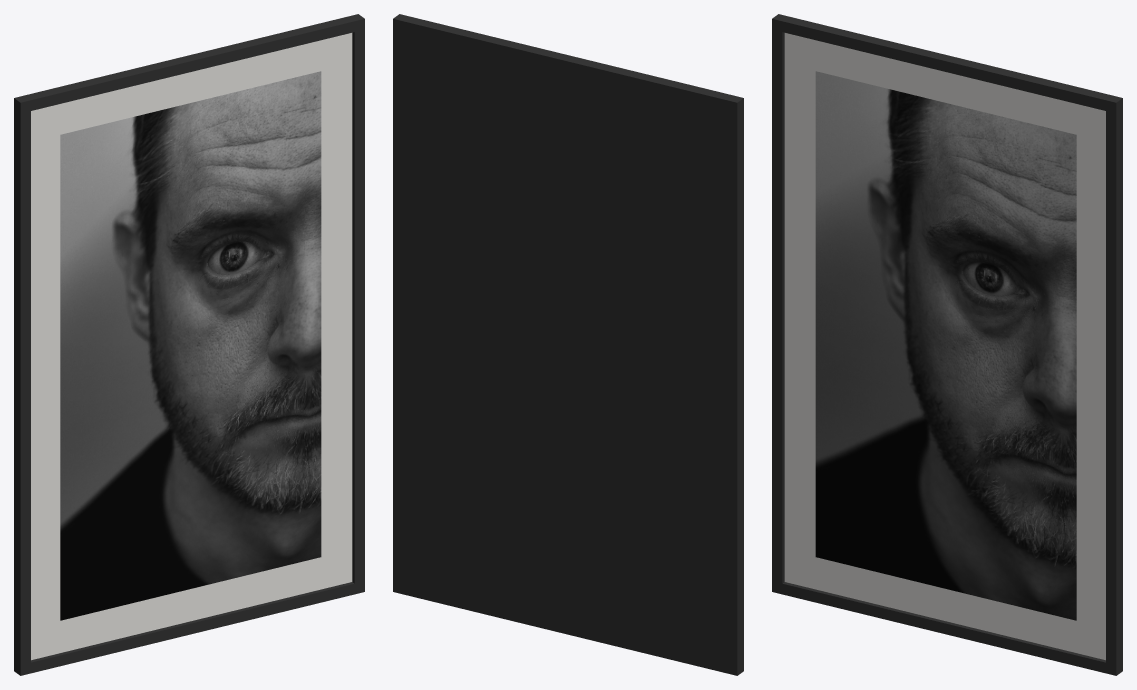
File: blicken-90.gltf
3 renders of one model, left to right at view 1: azimuth 30°, elevation 25°; view 2: azimuth 150°, elevation 25°; view 3: azimuth 330°, elevation 25°, orthographic.
Visible parts, largest first — view 1: tavla; view 2: tavla; view 3: tavla.
Part boxes in pixels (<box>): tavla: <box>14,14,364,675</box>; tavla: <box>393,14,743,675</box>; tavla: <box>772,14,1122,675</box>.
Bounding box in the file's own units: 0.6674 × 1.06 × 0.022.
3 materials, 1 textured.
